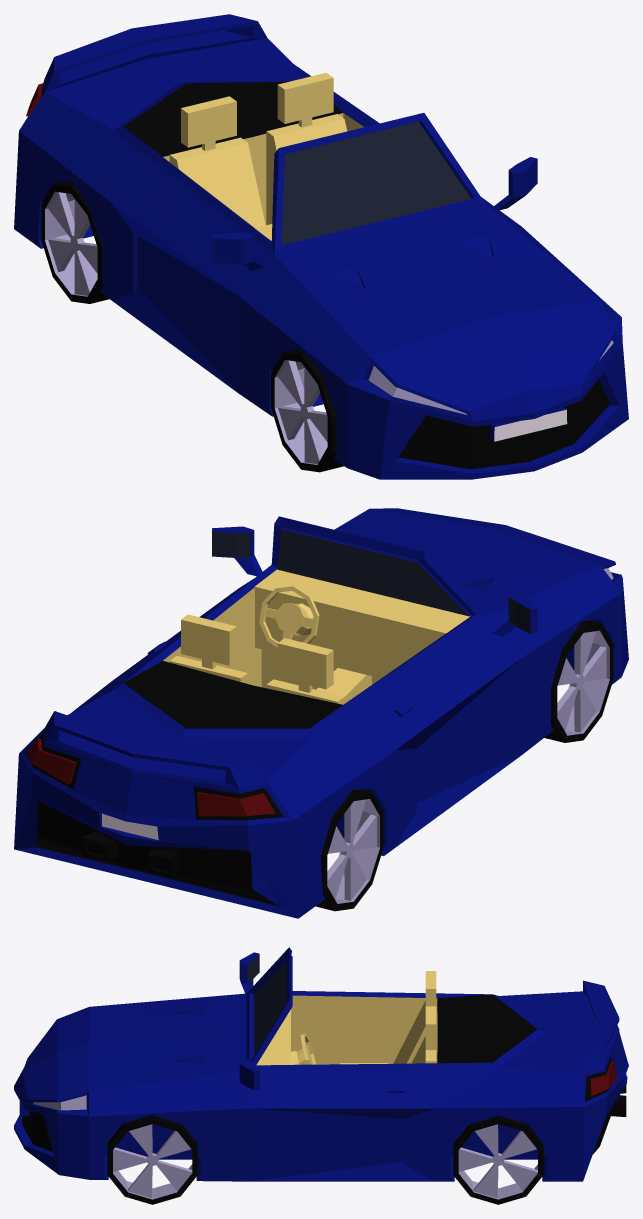
The model's file is roadster.glb.
3 views of the same model, one above another, from view 1: azimuth 30°, elevation 25°; view 2: azimuth 150°, elevation 25°; view 3: azimuth 270°, elevation 25° (orthographic). The views are drawn at different scales.
Visible parts, largest first — view 1: body-4, wheel-front-right, wheel-back-right; view 2: body-4, wheel-front-right, wheel-back-right; view 3: body-4, wheel-front-left, wheel-back-left.
Boxes of the visible parts, x1,y1,x2,y2 form: body-4: (14, 14, 628, 479); wheel-front-right: (271, 349, 343, 472); wheel-back-right: (41, 181, 109, 303); body-4: (14, 508, 628, 918); wheel-front-right: (544, 620, 613, 742); wheel-back-right: (315, 789, 383, 911); body-4: (14, 947, 628, 1181); wheel-front-left: (107, 1115, 197, 1204); wheel-back-left: (453, 1115, 543, 1204).
Size of the model in its own units: 1.66 by 1.16 by 3.6.
